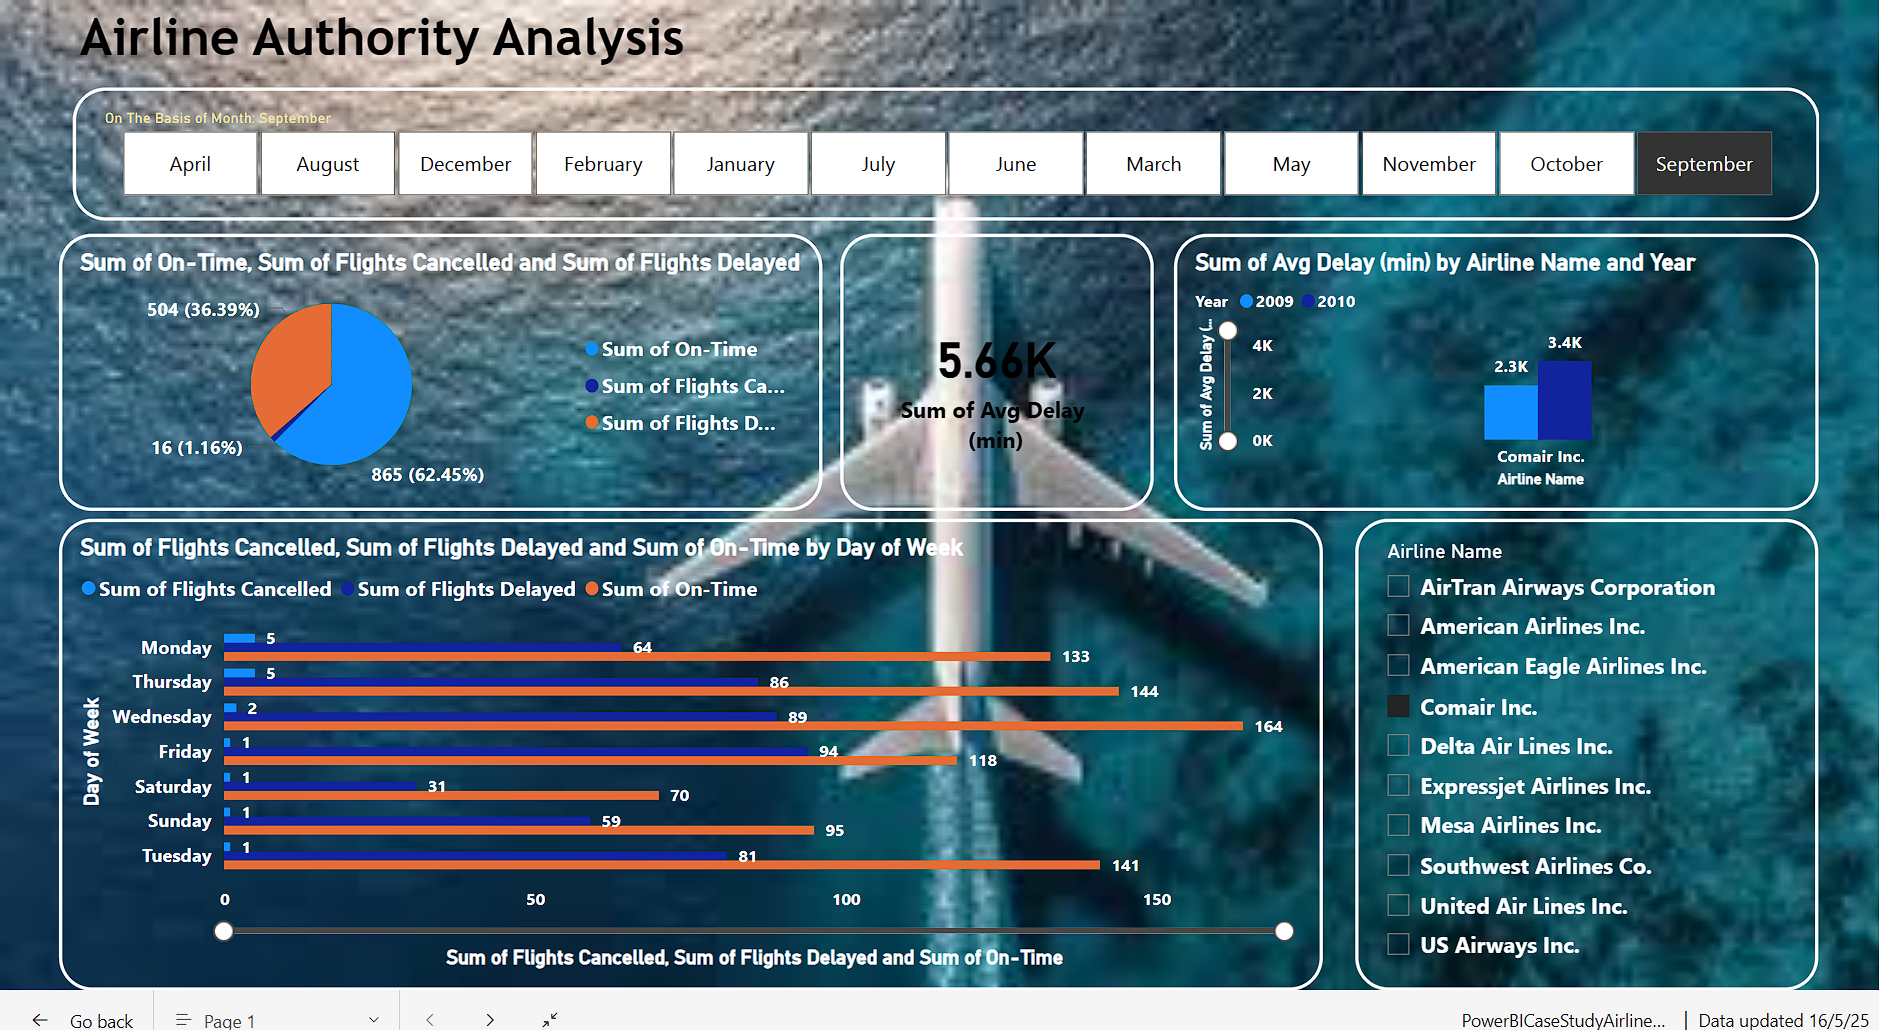

The dashboard page shown, as its layout file describes it:
{"tool":"powerbi","page":{"name":"Page 1","canvas":[1280,720],"ordinal":0},"visuals":[{"type":"textbox","box":[10,0,1270,82.5],"z":0},{"type":"slicer","fields":{"Values":["Sheet1.Month"]},"box":[10,63.4,1270.1,97],"z":1000},{"type":"clusteredBarChart","fields":{"Category":["Sheet1.Day of Week"],"Y":["Sum(Sheet1.Flights Cancelled)","Sum(Sheet1.Flights Delayed)","Sum(Sheet1.On-Time)"]},"box":[0,376.9,919.3,343.3],"z":2000},{"type":"slicer","fields":{"Values":["Sheet1.Airline Name"]},"box":[942.9,376.9,337.1,343.3],"z":3000},{"type":"pieChart","fields":{"Y":["Sum(Sheet1.On-Time)","Sum(Sheet1.Flights Cancelled)","Sum(Sheet1.Flights Delayed)"]},"box":[0,170.4,554.8,201.5],"z":4000},{"type":"clusteredColumnChart","fields":{"Category":["Sheet1.Airline Name"],"Y":["Sum(Sheet1.Avg Delay (min))"],"Series":["Sheet1.Year"]},"box":[811.1,170.4,469,201.5],"z":5000},{"type":"card","fields":{"Values":["Sum(Sheet1.Avg Delay (min))"]},"box":[568.5,170.4,227.6,201.5],"z":6000}]}

Visuals, with their boxes in screenshot pixels (x1, y1, x2, y2):
textbox: bbox(87, 0, 1811, 112)
slicer - Sheet1.Month: bbox(87, 86, 1811, 218)
clusteredBarChart - Sheet1.Day of Week x Sum(Sheet1.Flights Cancelled): bbox(73, 512, 1321, 978)
slicer - Sheet1.Airline Name: bbox(1353, 512, 1811, 978)
pieChart - Sum(Sheet1.On-Time) x Sum(Sheet1.Flights Cancelled): bbox(73, 231, 827, 505)
clusteredColumnChart - Sheet1.Airline Name x Sum(Sheet1.Avg Delay (min)): bbox(1175, 231, 1811, 505)
card - Sum(Sheet1.Avg Delay (min)): bbox(845, 231, 1154, 505)
